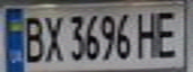3: (63, 11, 84, 62)
6: (81, 11, 103, 62), (115, 10, 136, 61)
9: (100, 10, 118, 61)
B: (18, 11, 45, 63)
E: (151, 7, 184, 58)
H: (133, 7, 163, 60)
X: (42, 11, 66, 63)
